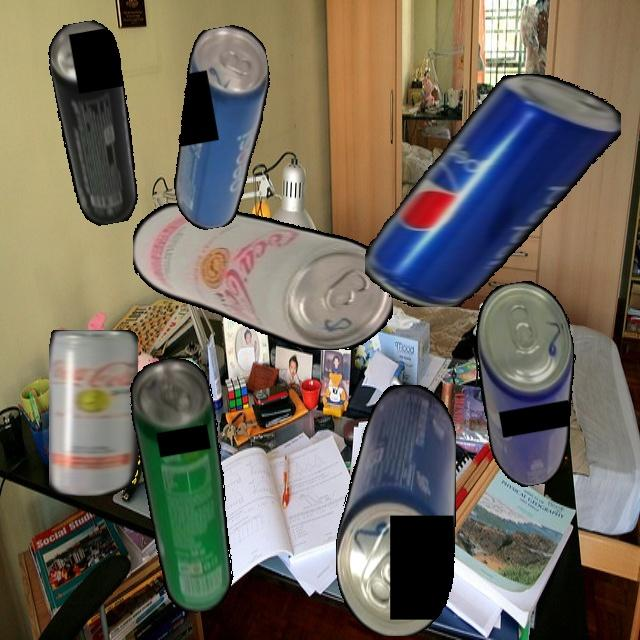debris: (365, 73, 621, 307), (132, 203, 393, 350), (124, 353, 249, 617), (149, 21, 294, 233), (335, 384, 456, 636), (464, 275, 596, 491), (43, 17, 148, 229), (49, 329, 138, 496)
